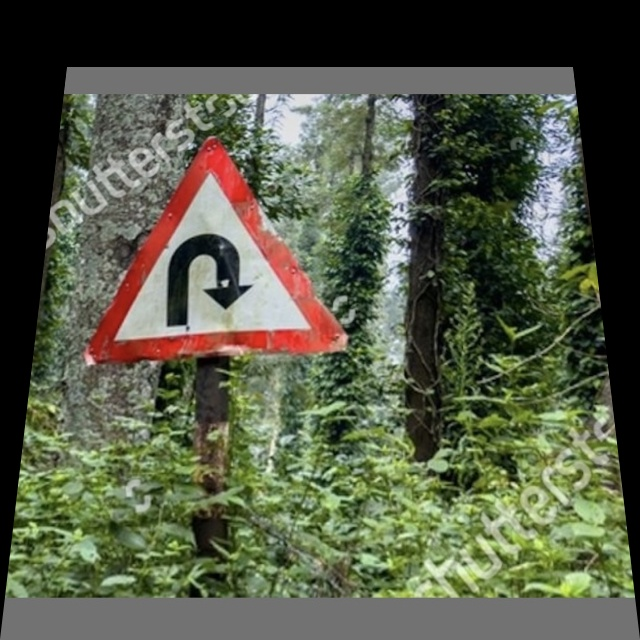Right_Hair_Pin_Bend: (87, 136, 346, 351)
